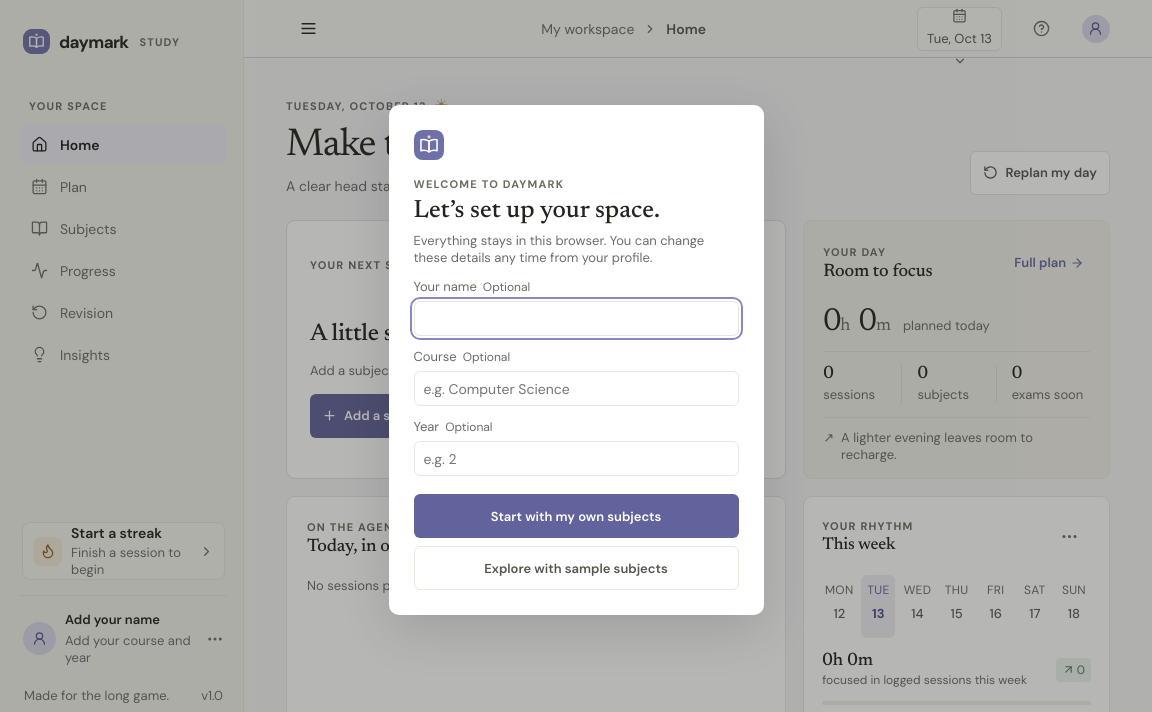
Scenario: onboarding › welcomes a new user without a placeholder name and can start from sample subjects
Type "Alex" into the field labelled "Your name Optional" at (576, 318), box [414,301,738,336]
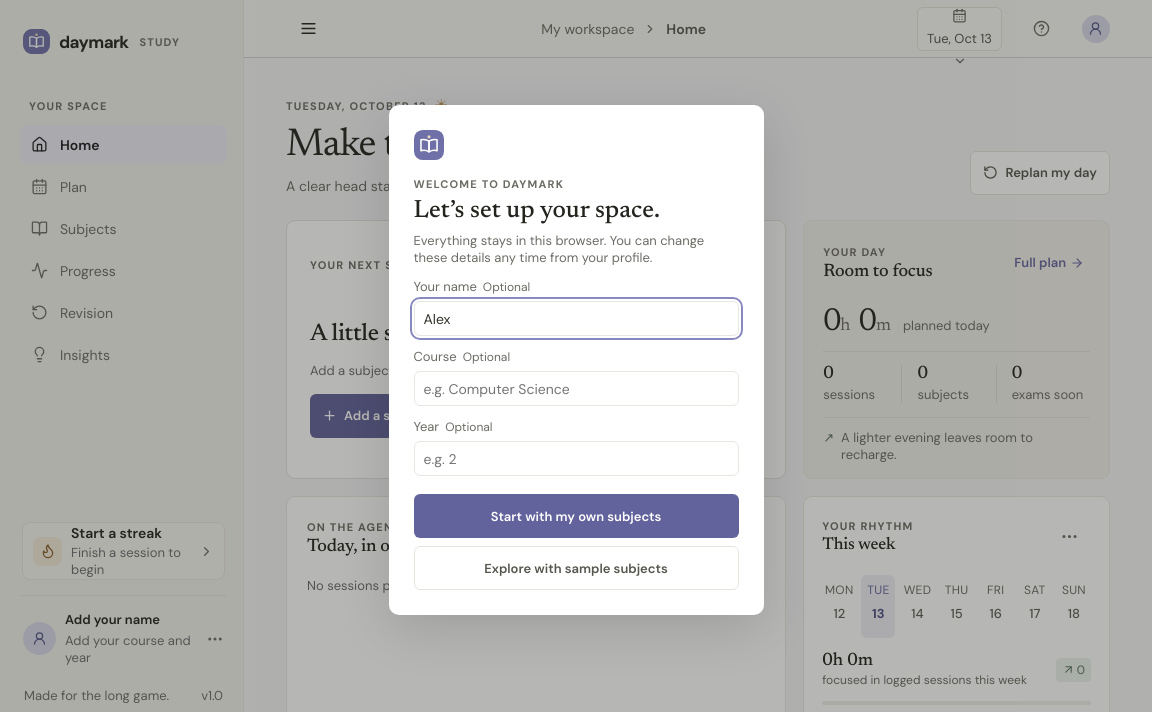
Click the button "Explore with sample subjects" at (576, 568), box [414,546,738,590]
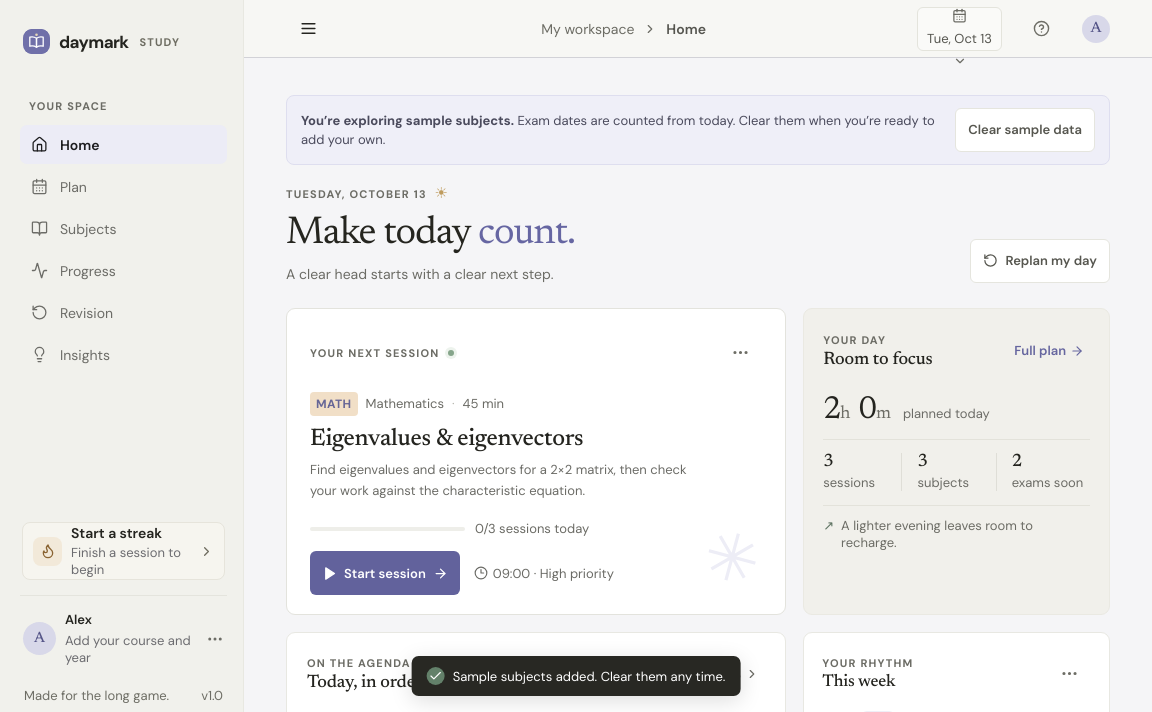
Result: the dialog is gone
Result: the text "Alex" is shown at [65,611,92,628]
Result: the text "You’re exploring sample subjects." is shown at [301,112,514,128]
